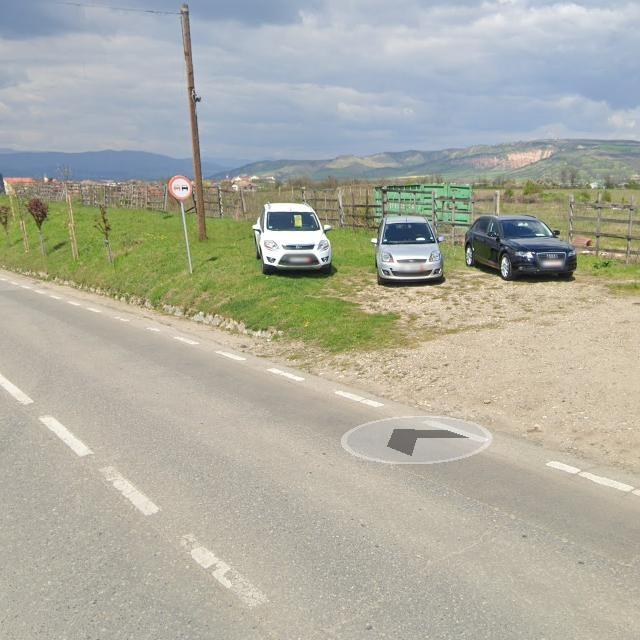forb_overtake: (168, 175, 192, 200)
